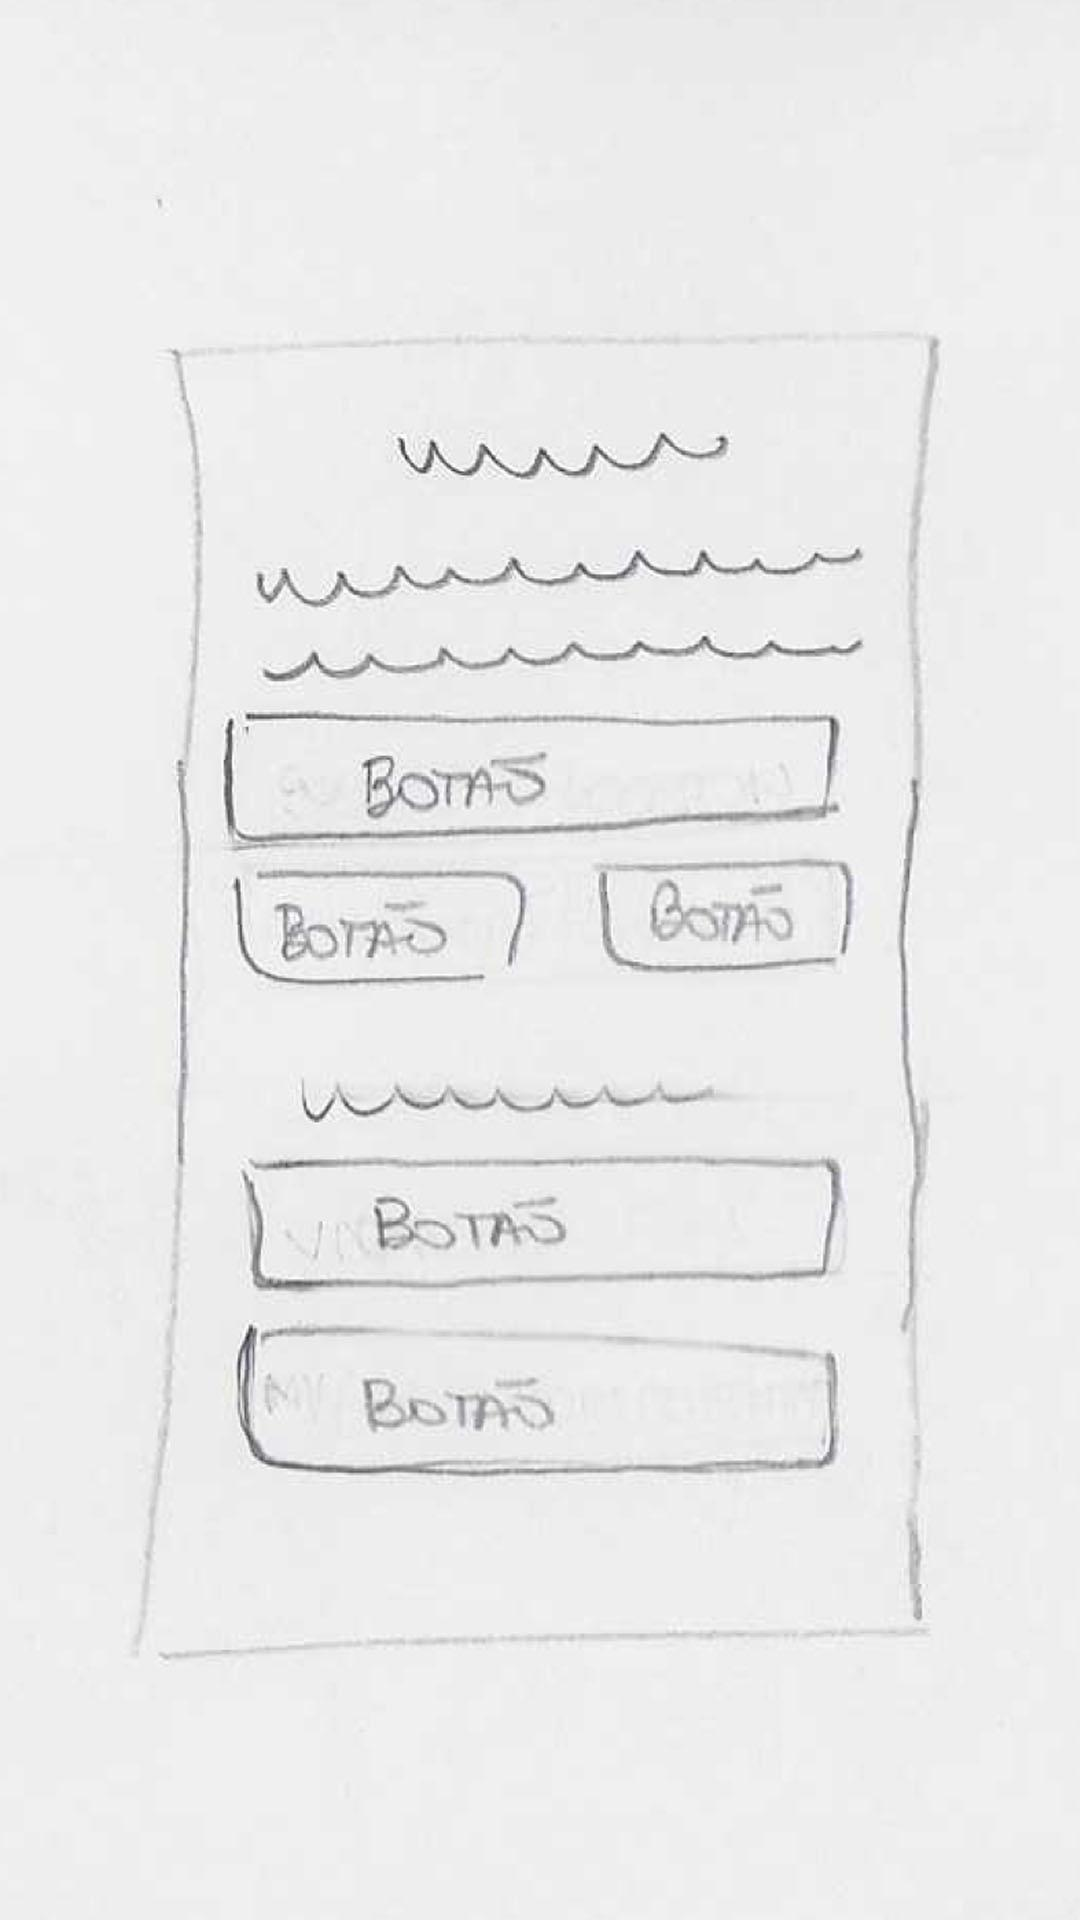Button: (244, 1325, 836, 1474), (223, 708, 837, 848), (243, 1158, 836, 1290), (229, 873, 524, 984), (599, 858, 856, 975)
Label: (248, 545, 868, 686), (290, 1068, 727, 1126), (392, 429, 731, 480)
Screen: (129, 340, 936, 1662)
